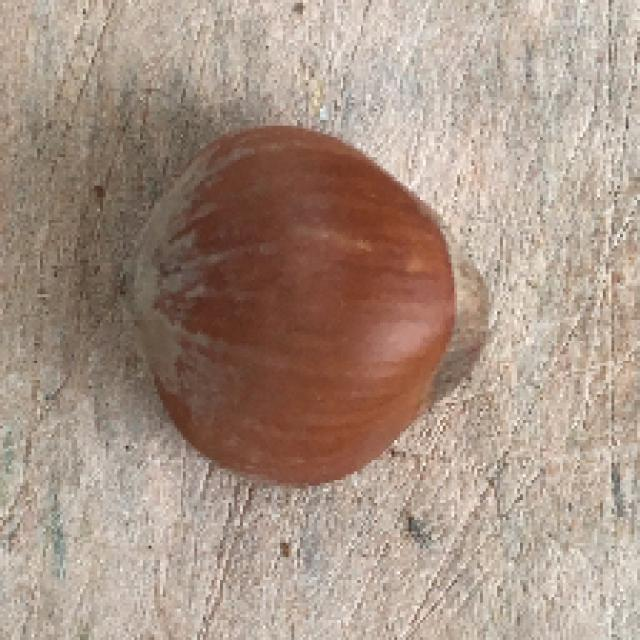qualityHazelnut: (117, 111, 497, 495)
